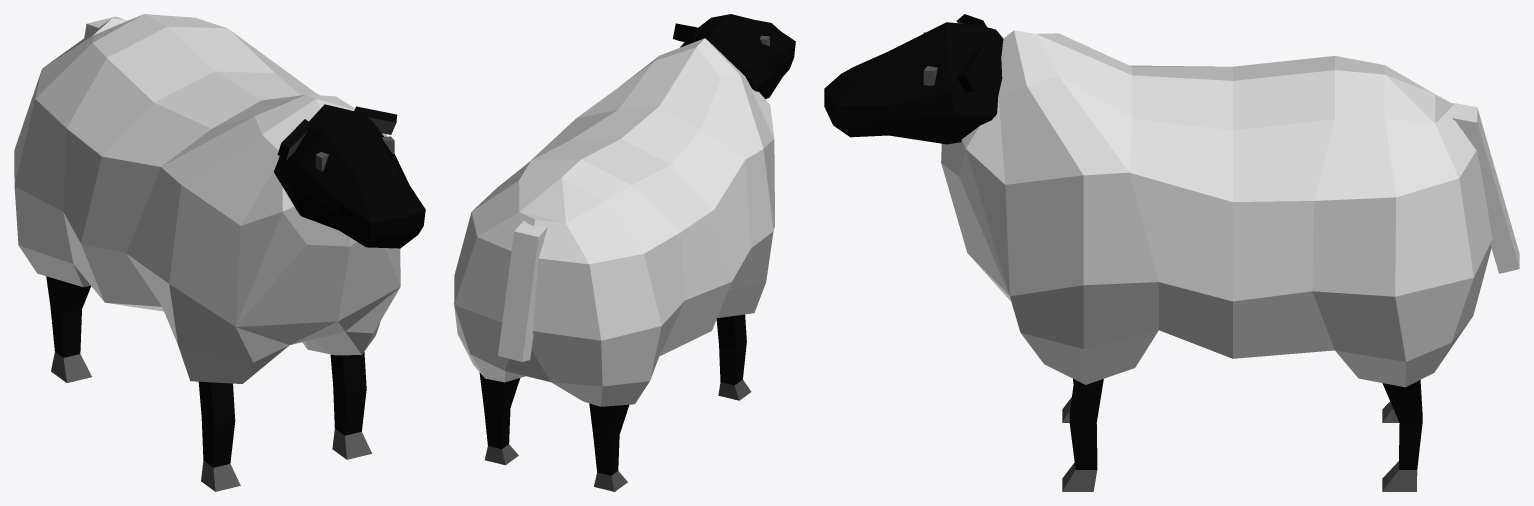
Rendered from Sheep.fbx.
The picture shows the model from 3 angles, left to right: view 1: azimuth 30°, elevation 25°; view 2: azimuth 150°, elevation 25°; view 3: azimuth 270°, elevation 25°; orthographic projection. The views are drawn at different scales.
Visible parts, largest first — view 1: Sheep; view 2: Sheep; view 3: Sheep.
Boxes of the visible parts, x1,y1,x2,y2 form: Sheep: (14, 14, 425, 491); Sheep: (454, 14, 795, 491); Sheep: (824, 14, 1519, 491).
Size of the model in its own units: 0.0421 by 0.0596 by 0.0879.
Materials: 1 (1 with a texture image).
